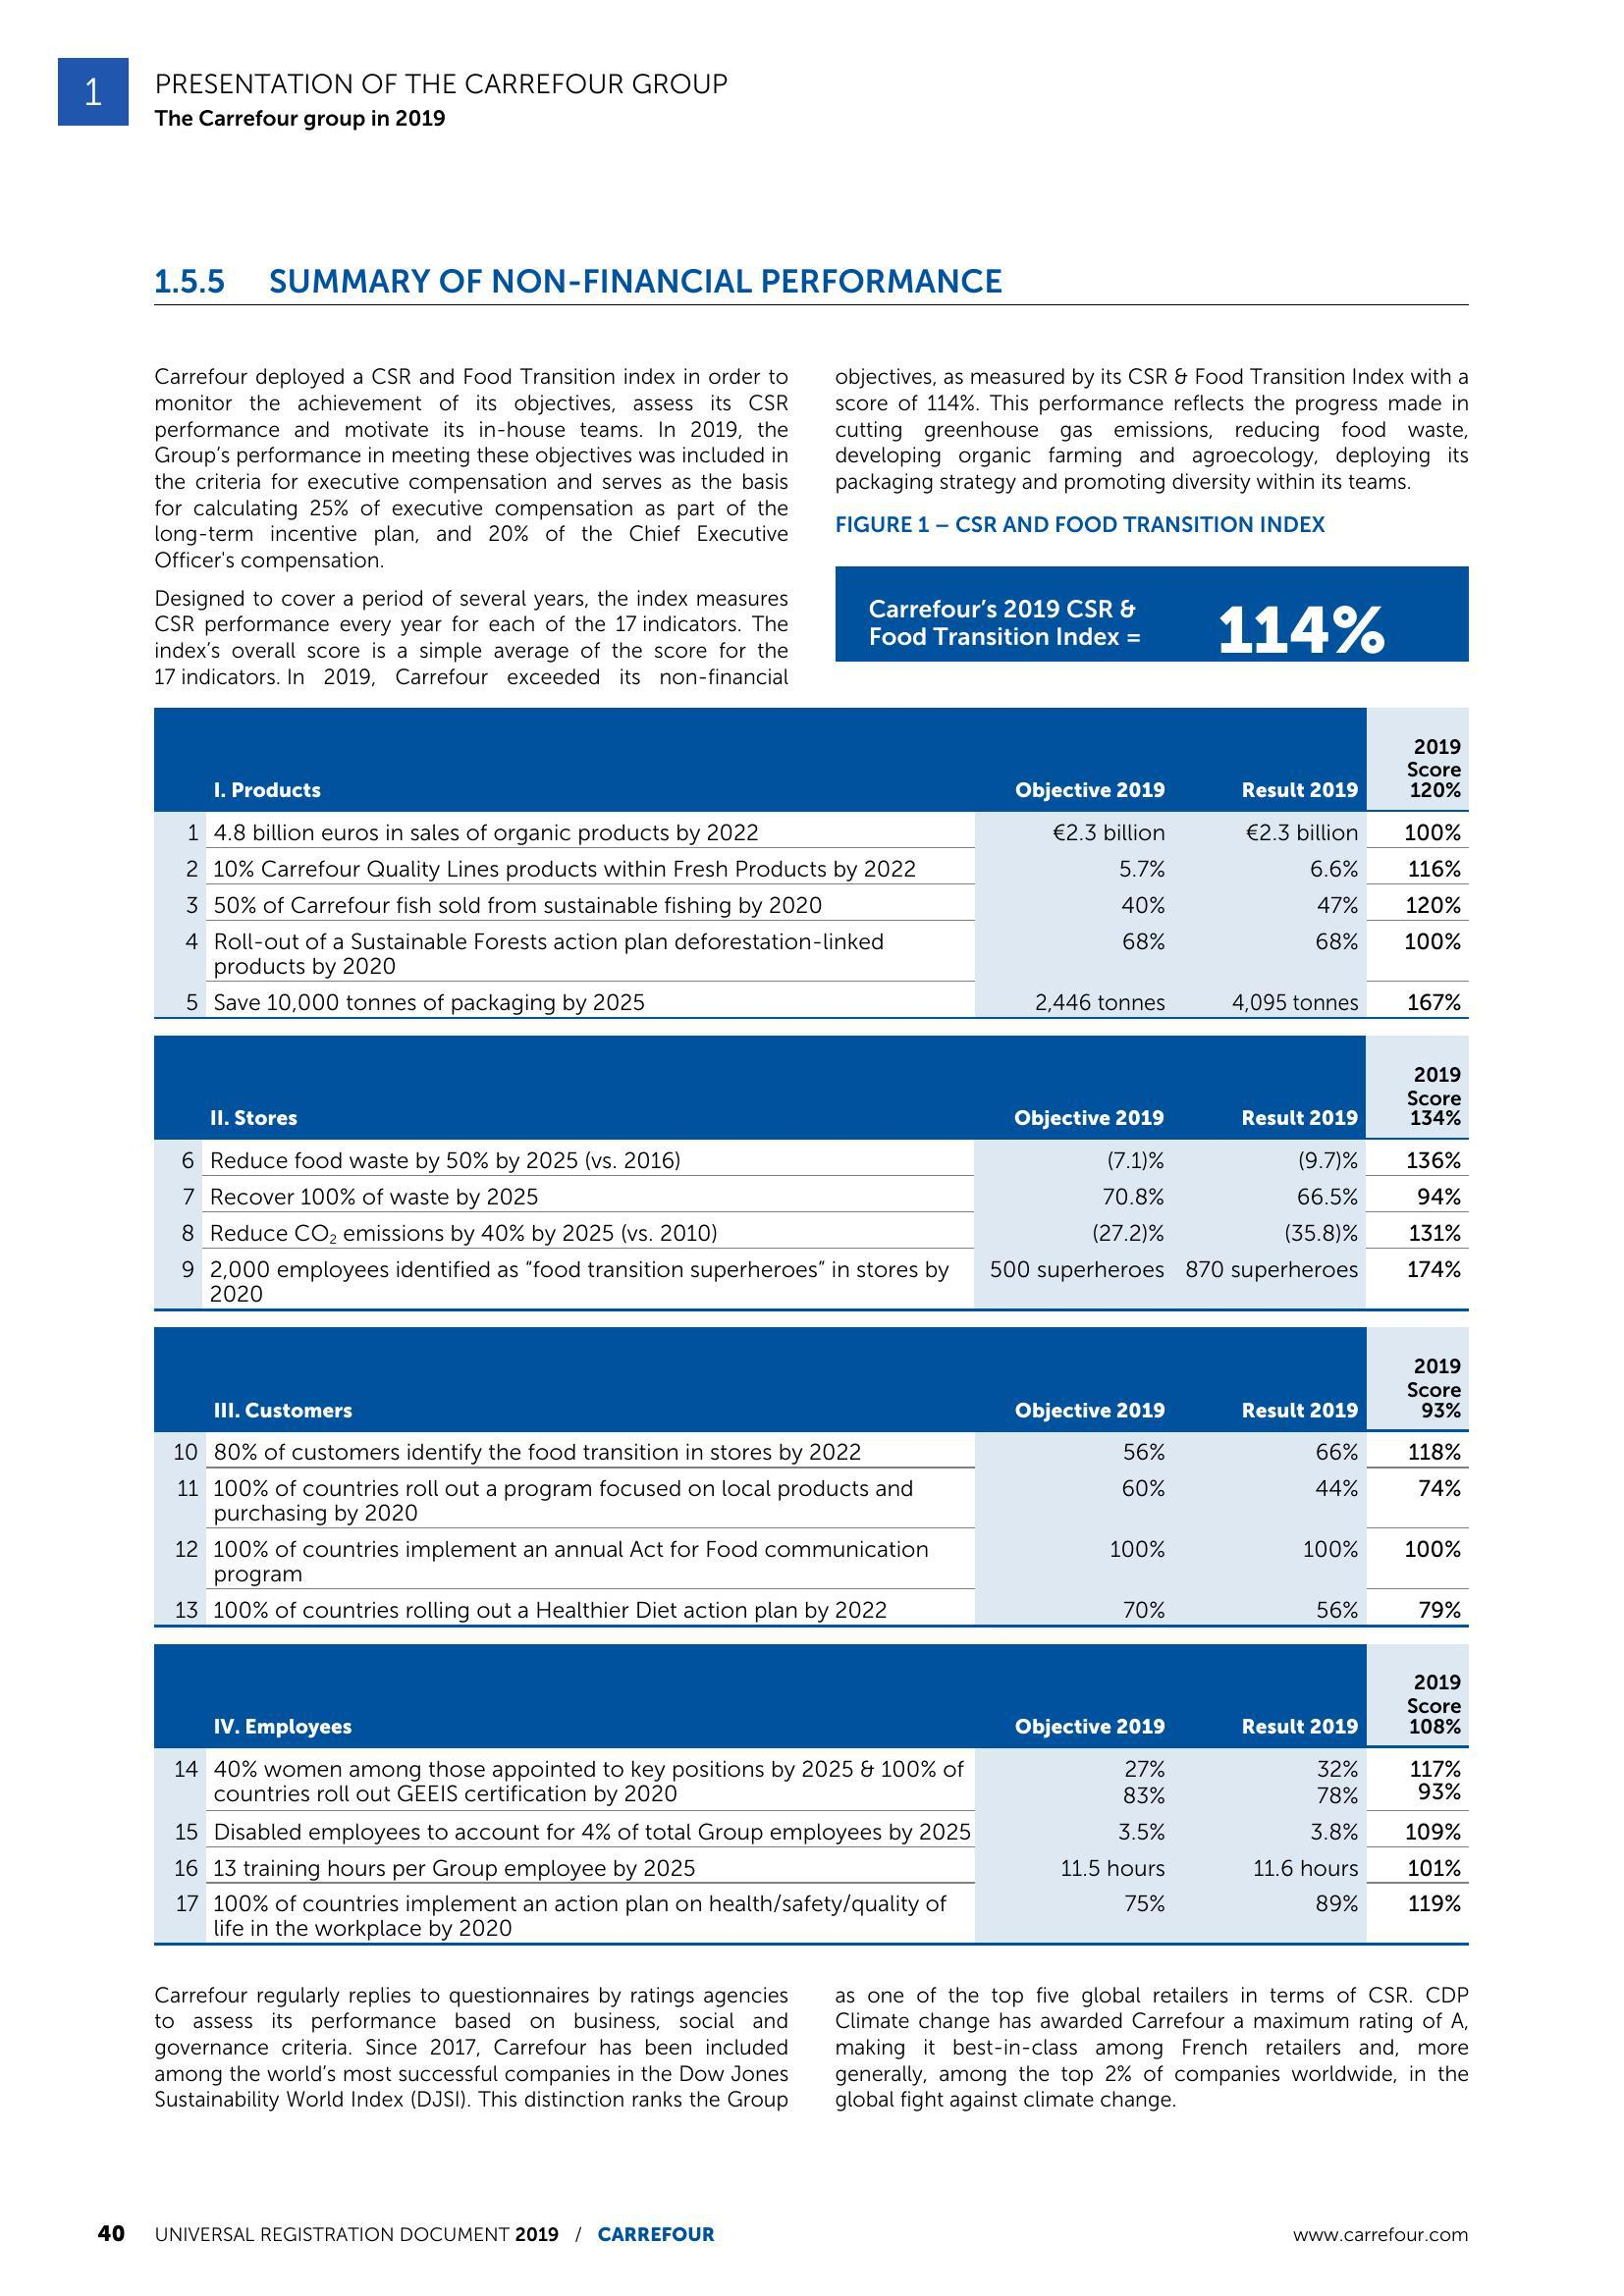cell: (155, 1326, 984, 1430), (155, 708, 977, 812), (153, 1036, 977, 1138), (202, 1643, 981, 1746), (202, 1746, 981, 1813), (155, 1469, 984, 1528), (155, 1528, 984, 1588), (153, 1249, 977, 1309), (155, 922, 977, 982), (202, 1885, 981, 1945), (155, 1430, 984, 1469), (155, 1588, 984, 1627), (153, 1138, 977, 1175), (153, 1175, 977, 1212), (153, 1212, 977, 1249), (155, 812, 977, 848), (155, 848, 977, 885), (155, 885, 977, 922), (155, 982, 977, 1019), (202, 1848, 981, 1885), (202, 1813, 981, 1848), (981, 1643, 1213, 1746), (984, 1326, 1216, 1430), (977, 708, 1200, 812), (977, 1036, 1185, 1138), (1185, 1036, 1367, 1138), (1200, 708, 1367, 812), (1213, 1643, 1364, 1746), (981, 1746, 1213, 1813), (1216, 1326, 1362, 1430), (981, 1885, 1213, 1945), (984, 1469, 1216, 1528), (984, 1528, 1216, 1588), (977, 922, 1200, 982), (977, 1249, 1185, 1309), (1362, 1326, 1473, 1430), (1364, 1643, 1473, 1746), (1185, 1249, 1367, 1309), (1367, 708, 1469, 812), (1367, 1036, 1471, 1138), (1213, 1746, 1364, 1813), (1200, 922, 1367, 982), (1213, 1885, 1364, 1945), (984, 1430, 1216, 1469), (984, 1588, 1216, 1627), (1216, 1469, 1362, 1528), (1216, 1528, 1362, 1588), (981, 1848, 1213, 1885), (977, 812, 1200, 848), (977, 848, 1200, 885), (977, 885, 1200, 922), (977, 982, 1200, 1019), (981, 1813, 1213, 1848), (977, 1138, 1185, 1175), (977, 1175, 1185, 1212), (977, 1212, 1185, 1249), (1364, 1746, 1473, 1813), (1185, 1138, 1367, 1175), (1185, 1175, 1367, 1212), (1185, 1212, 1367, 1249), (1362, 1469, 1473, 1528), (1362, 1528, 1473, 1588), (1364, 1885, 1473, 1945), (1367, 1249, 1471, 1309), (1200, 812, 1367, 848), (1200, 848, 1367, 885), (1200, 885, 1367, 922), (1200, 982, 1367, 1019), (1367, 922, 1469, 982), (1216, 1430, 1362, 1469), (1216, 1588, 1362, 1627), (1213, 1848, 1364, 1885), (1213, 1813, 1364, 1848), (153, 1643, 202, 1746), (1362, 1430, 1473, 1469), (1362, 1588, 1473, 1627), (1364, 1848, 1473, 1885), (1364, 1813, 1473, 1848), (1367, 1138, 1471, 1175), (1367, 1175, 1471, 1212), (1367, 1212, 1471, 1249), (1367, 812, 1469, 848), (1367, 848, 1469, 885), (1367, 885, 1469, 922), (1367, 982, 1469, 1019), (153, 1746, 202, 1813), (153, 1885, 202, 1945), (153, 1848, 202, 1885), (153, 1813, 202, 1848)
table: (155, 708, 1469, 1019), (153, 1643, 1473, 1945), (155, 1326, 1473, 1627), (153, 1036, 1471, 1309)
